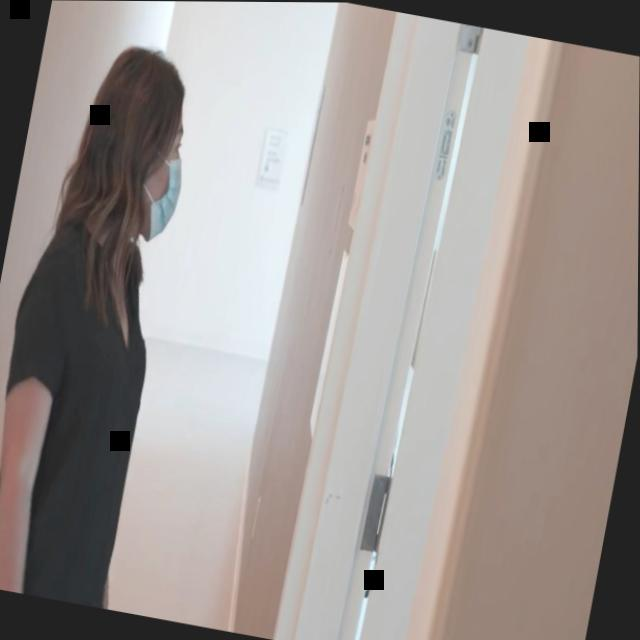Mask: (132, 109, 194, 246)
